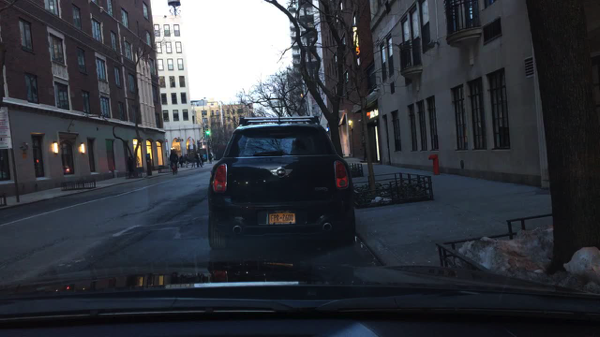bike: (169, 162, 177, 176)
car: (207, 114, 357, 251)
person: (128, 157, 135, 178), (196, 155, 202, 167), (179, 155, 184, 168), (200, 154, 205, 166), (210, 153, 213, 164)
rider: (169, 149, 178, 172)
traffic light: (205, 125, 211, 135)
traffic sign: (0, 106, 12, 148), (176, 139, 184, 142), (203, 139, 211, 141)
